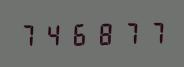eight: (93, 19, 117, 46)
four: (42, 20, 66, 47)
seven: (118, 19, 142, 46), (17, 21, 41, 47), (143, 19, 167, 45)
six: (68, 20, 92, 46)
